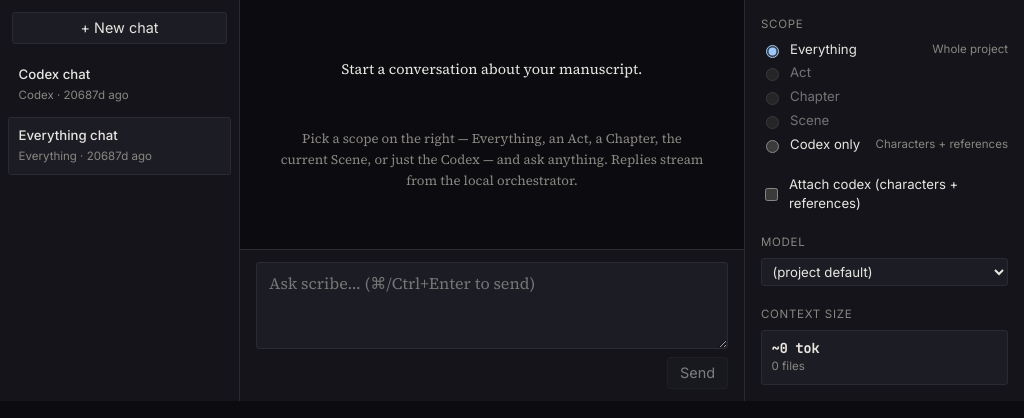
Test: ChatView › persists the selected scope on the thread and restores it when switching threads
Check: the text "Everything chat" is shown, box left=19, top=127, right=118, bottom=143
Check: the radio button labelled "Everything Whole project" is checked, box left=766, top=44, right=779, bottom=58
Click the text "Codex chat" at coordinates (54, 74), box left=19, top=66, right=90, bottom=82
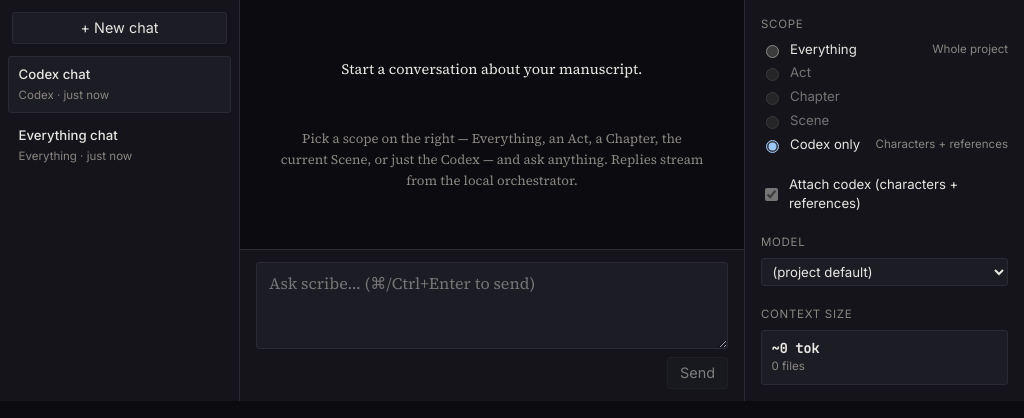
Check: the radio button labelled "Codex only Characters + references" is checked, box left=766, top=140, right=779, bottom=153
Click the text "Everything chat" at coordinates (68, 135), box left=19, top=127, right=118, bottom=143
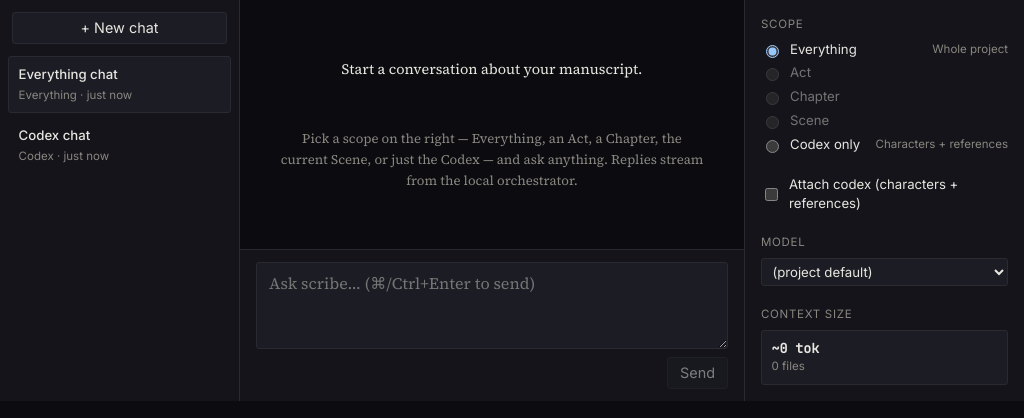
Check: the radio button labelled "Everything Whole project" is checked, box left=766, top=44, right=779, bottom=58
